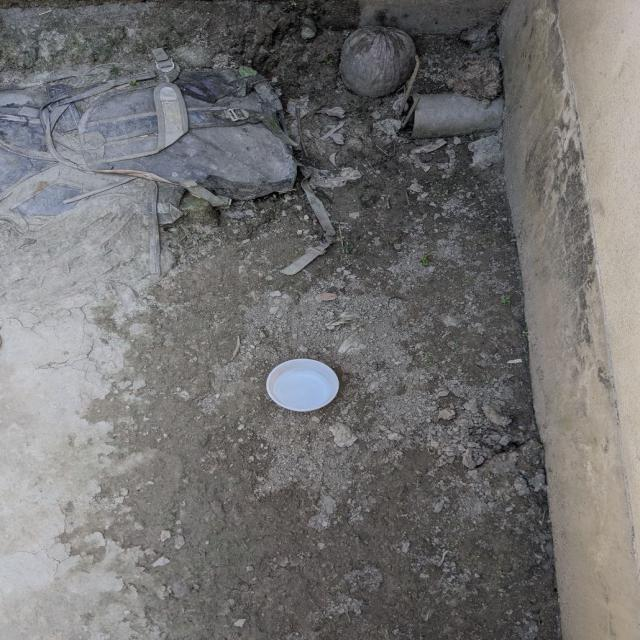Breeding Place: (130, 32, 500, 252), (242, 343, 360, 438)
